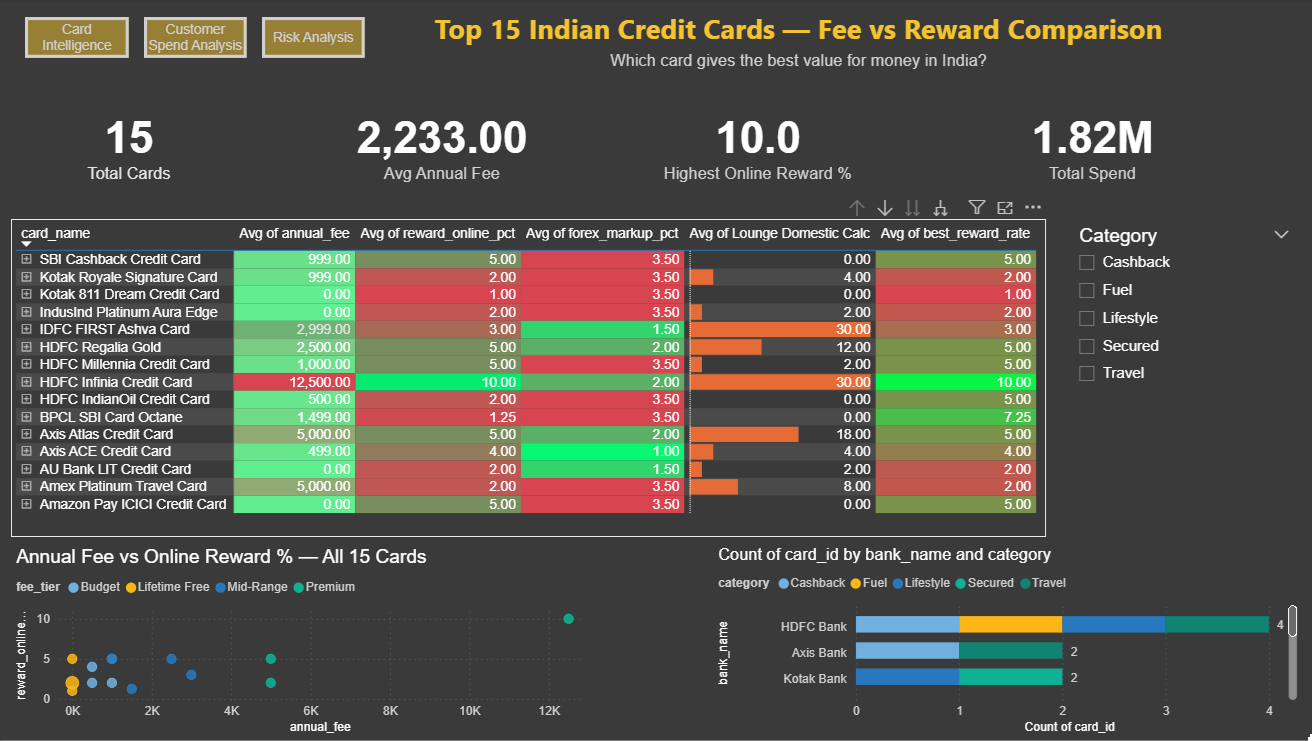

What the dashboard file says about the page in this screenshot:
{"tool":"powerbi","page":{"name":"Card Intelligence","canvas":[1280,720],"ordinal":0},"visuals":[{"type":"card","fields":{"Values":["CountNonNull(credit_cards.card_id)"]},"box":[10.7,87.5,229.5,107],"z":0},{"type":"card","fields":{"Values":["Avg(credit_cards.annual_fee)"]},"box":[304.4,87.5,250.9,107],"z":1000},{"type":"card","fields":{"Values":["Max(credit_cards.reward_online_pct)"]},"box":[611.8,87.5,250.9,107],"z":2000},{"type":"pivotTable","fields":{"Rows":["credit_cards.card_name","credit_cards.bank_name","credit_cards.category"],"Values":["Avg(credit_cards.annual_fee)","Avg(credit_cards.reward_online_pct)","Avg(credit_cards.forex_markup_pct)","Avg(credit_cards.Lounge Domestic Calc)","Avg(credit_cards.best_reward_rate)"]},"box":[10.7,214,1006.7,309.3],"z":3000},{"type":"card","fields":{"Values":["_Measures.Total Spend"]},"box":[935.7,87.5,253.9,107],"z":4000},{"type":"scatterChart","title":"Annual Fee vs Online Reward % — All 15 Cards","fields":{"X":["credit_cards.annual_fee"],"Y":["credit_cards.reward_online_pct"],"Size":["CountNonNull(credit_cards.Lounge Domestic Calc)"],"Series":["credit_cards.fee_tier"]},"box":[10.7,532,570,187.7],"z":5000},{"type":"barChart","fields":{"Category":["credit_cards.bank_name"],"Y":["CountNonNull(credit_cards.card_id)"],"Series":["credit_cards.category"]},"box":[693.5,532,572.9,187.7],"z":6000},{"type":"slicer","fields":{"Values":["credit_cards.category"]},"box":[1036.8,214,229.5,178],"z":7000},{"type":"textbox","title":"Top 15 Indian Credit Cards — Fee vs Reward Comparison","box":[401.5,10.2,750.1,93.8],"z":7001},{"type":"actionButton","box":[24.5,17.3,100.9,39.7],"z":7002},{"type":"actionButton","box":[139.6,17.3,99.9,39.7],"z":7003},{"type":"actionButton","box":[254.8,17.3,99.9,39.7],"z":7004}]}

Visuals, with their boxes in screenshot pixels (x1, y1, x2, y2), scaled from the page's 1280x720 canvas onto the 1312x741 screenshot:
card - CountNonNull(credit_cards.card_id): BBox(11, 90, 246, 200)
card - Avg(credit_cards.annual_fee): BBox(312, 90, 569, 200)
card - Max(credit_cards.reward_online_pct): BBox(627, 90, 884, 200)
pivotTable - credit_cards.card_name x credit_cards.bank_name: BBox(11, 220, 1043, 539)
card - _Measures.Total Spend: BBox(959, 90, 1219, 200)
"Annual Fee vs Online Reward % — All 15 Cards" scatterChart: BBox(11, 548, 595, 740)
barChart - credit_cards.bank_name x CountNonNull(credit_cards.card_id): BBox(711, 548, 1298, 740)
slicer - credit_cards.category: BBox(1063, 220, 1298, 403)
"Top 15 Indian Credit Cards — Fee vs Reward Comparison" textbox: BBox(412, 10, 1180, 107)
actionButton: BBox(25, 18, 129, 59)
actionButton: BBox(143, 18, 245, 59)
actionButton: BBox(261, 18, 364, 59)
